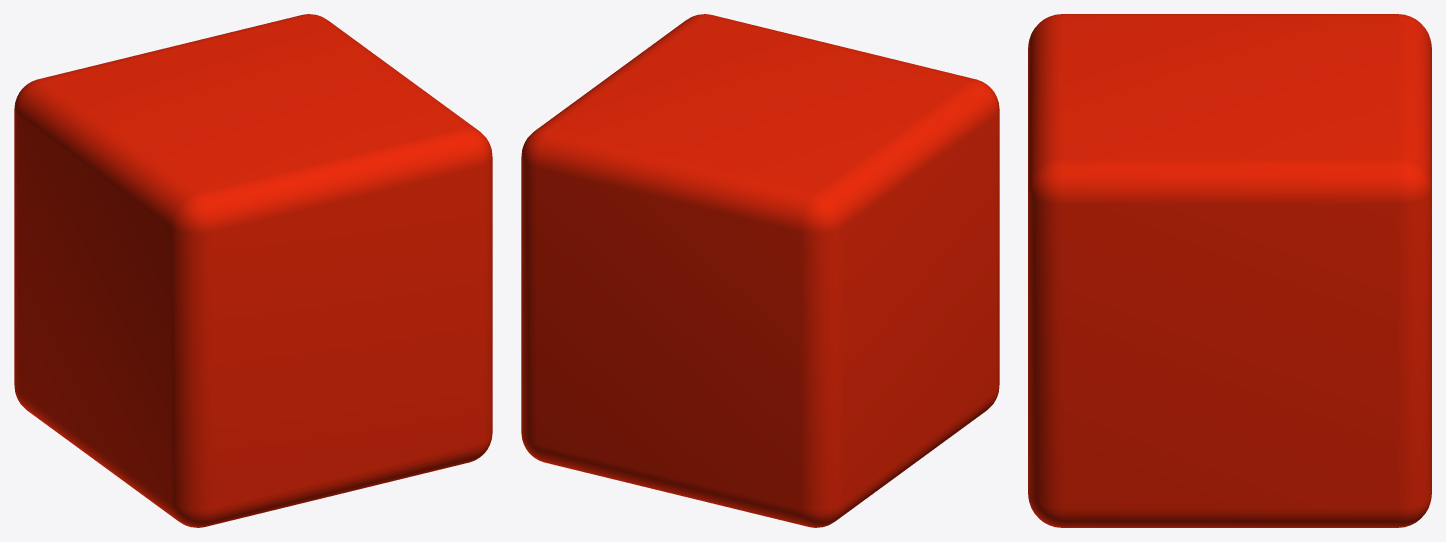
The model's file is snk.glb.
3 views of the same model, side by side, from view 1: azimuth 30°, elevation 25°; view 2: azimuth 150°, elevation 25°; view 3: azimuth 270°, elevation 25° (orthographic). The views are drawn at different scales.
Parts seen in each view (by area): view 1: Cube; view 2: Cube; view 3: Cube.
Part boxes in pixels (<box>): Cube: <box>14,14,492,527</box>; Cube: <box>521,14,999,527</box>; Cube: <box>1028,14,1431,527</box>.
Bounding box in the file's own units: 2 × 2 × 2.
